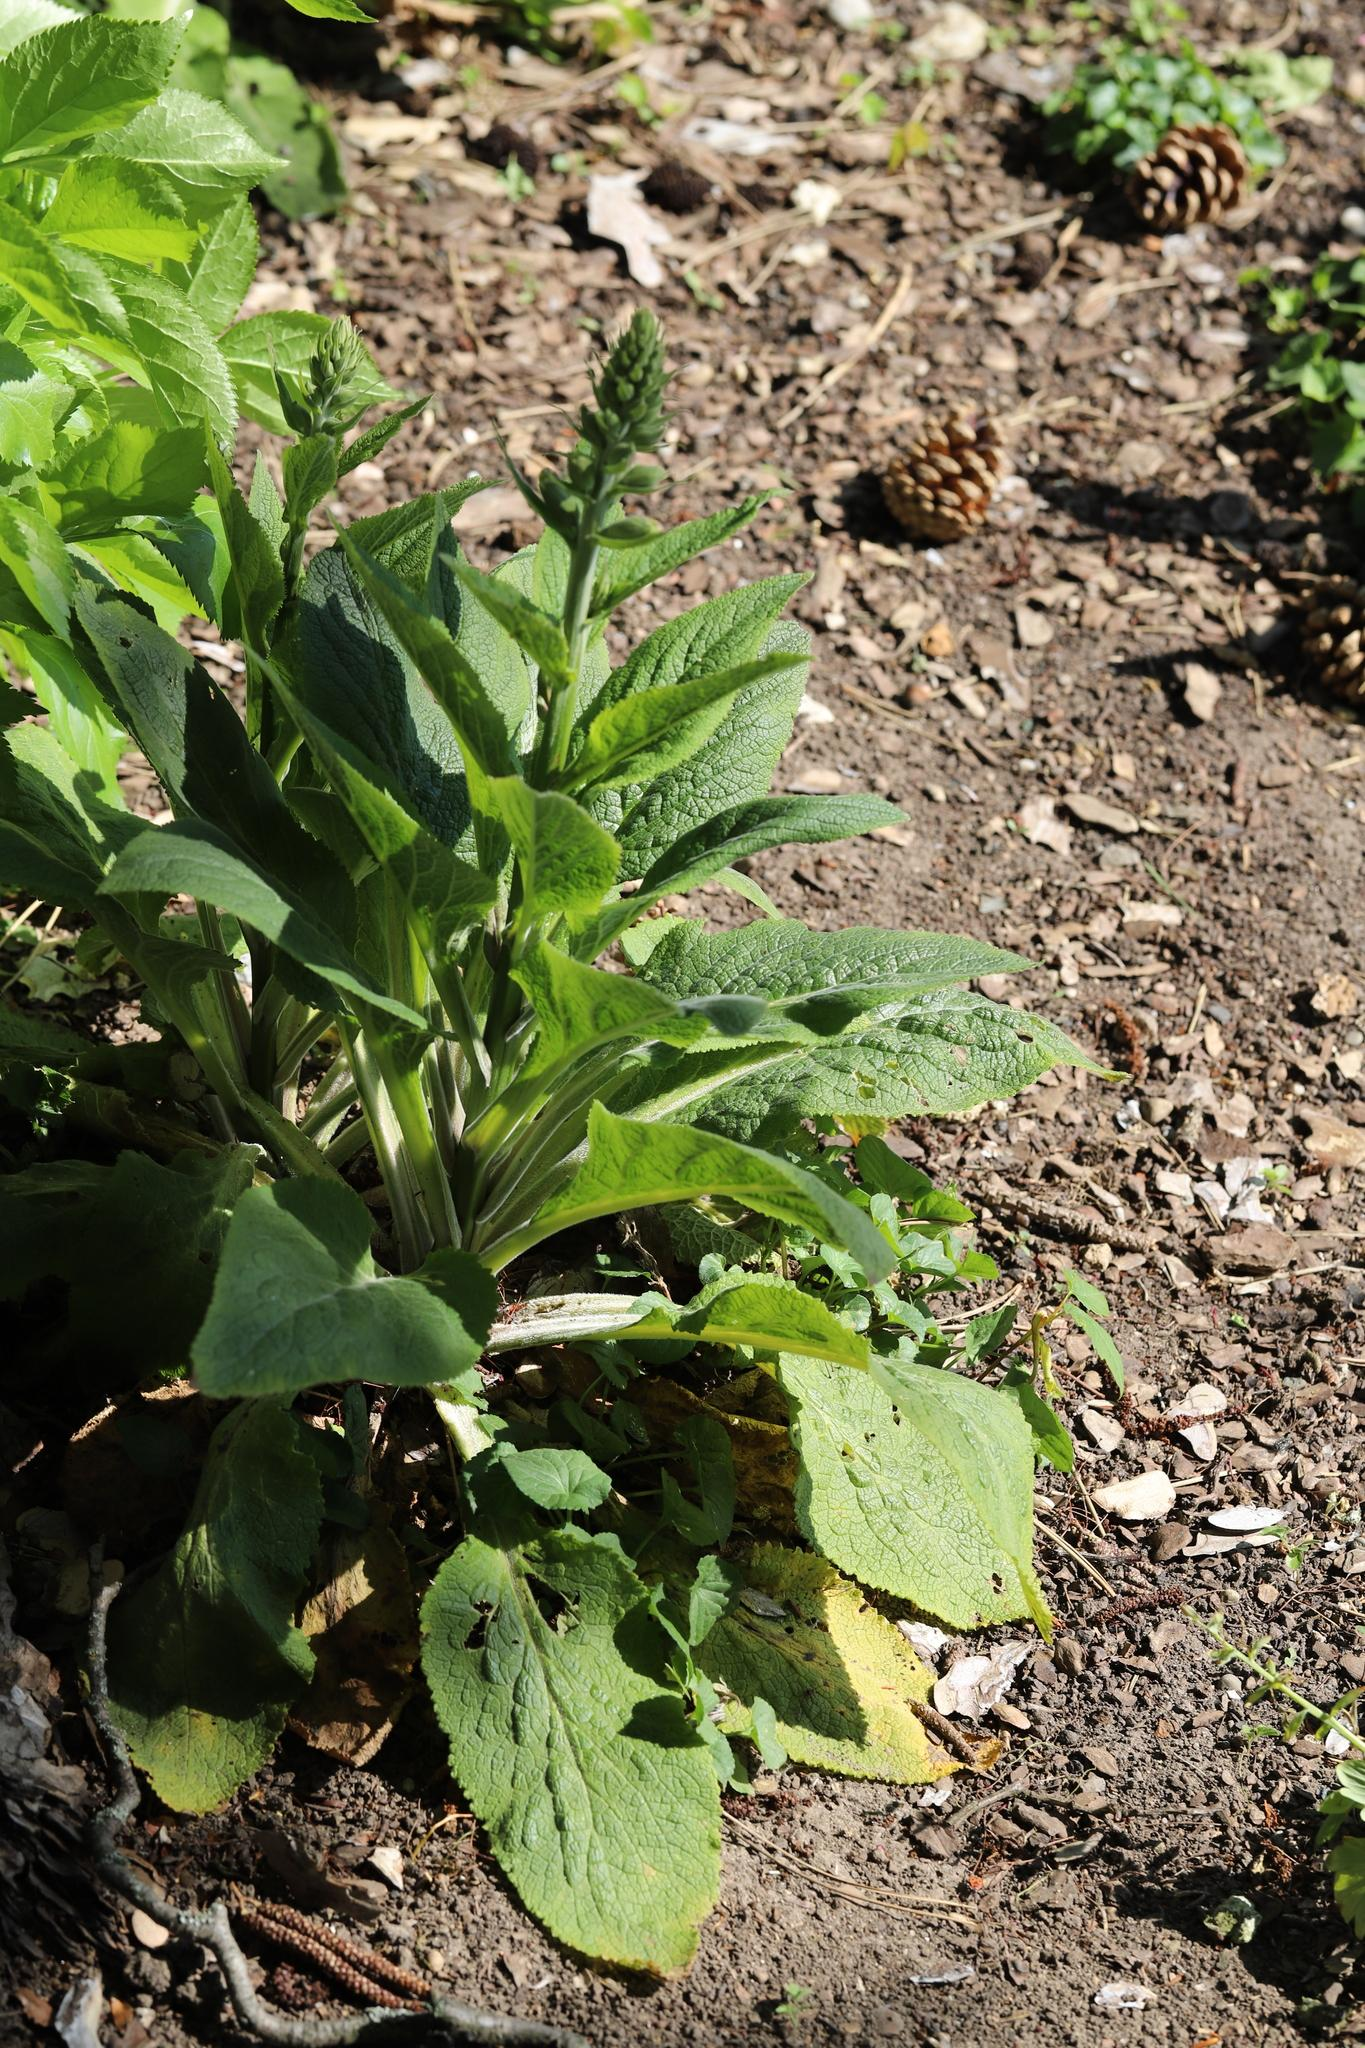Digitalis L: (32, 301, 1089, 2002)
